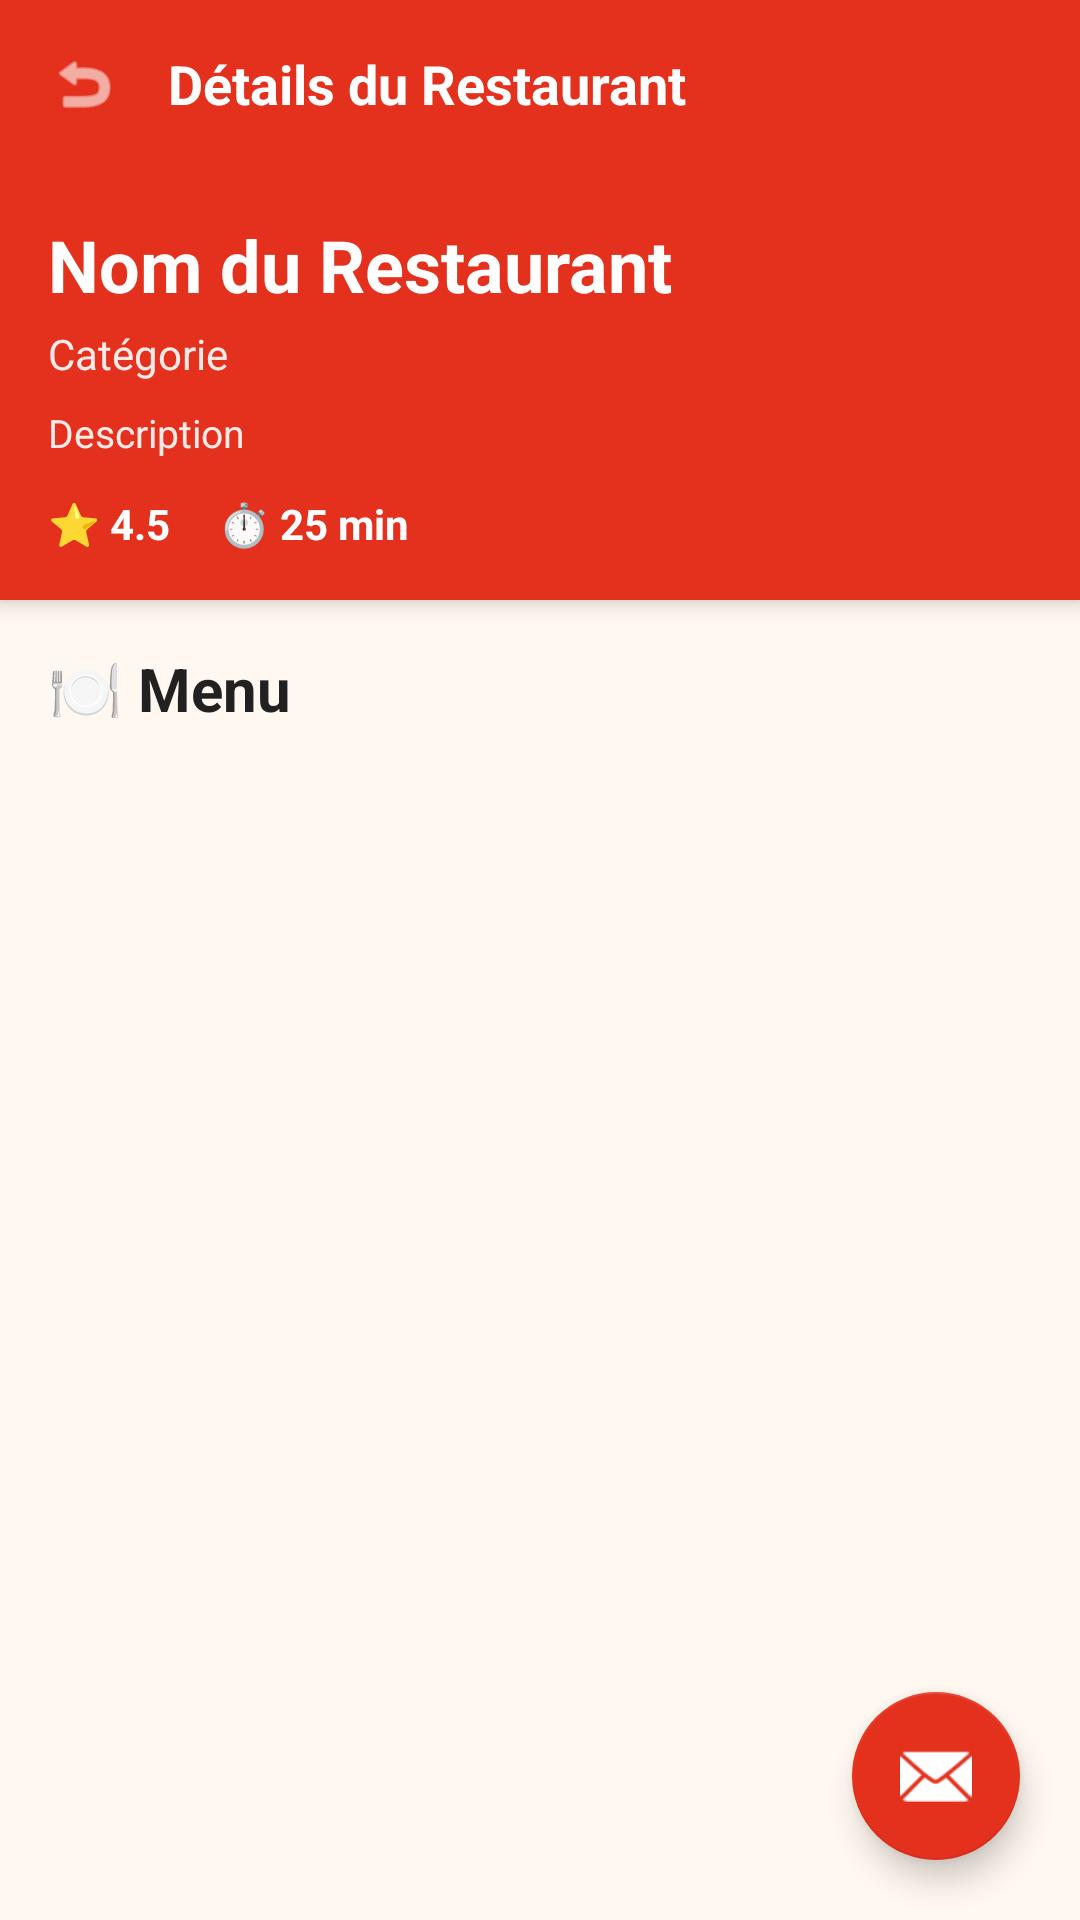

Named icons in this screenshot (1080*1920) and their centers, [x,y]:
Retour: [85,84]
